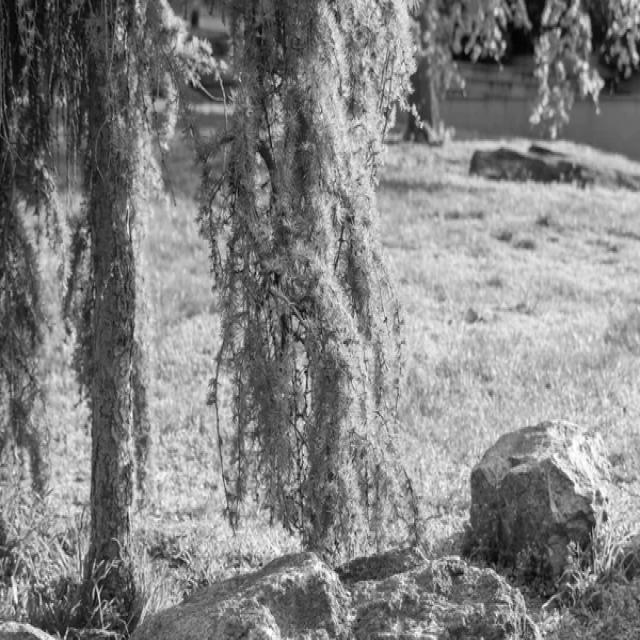Stone: (133, 550, 541, 640), (474, 421, 613, 575)
